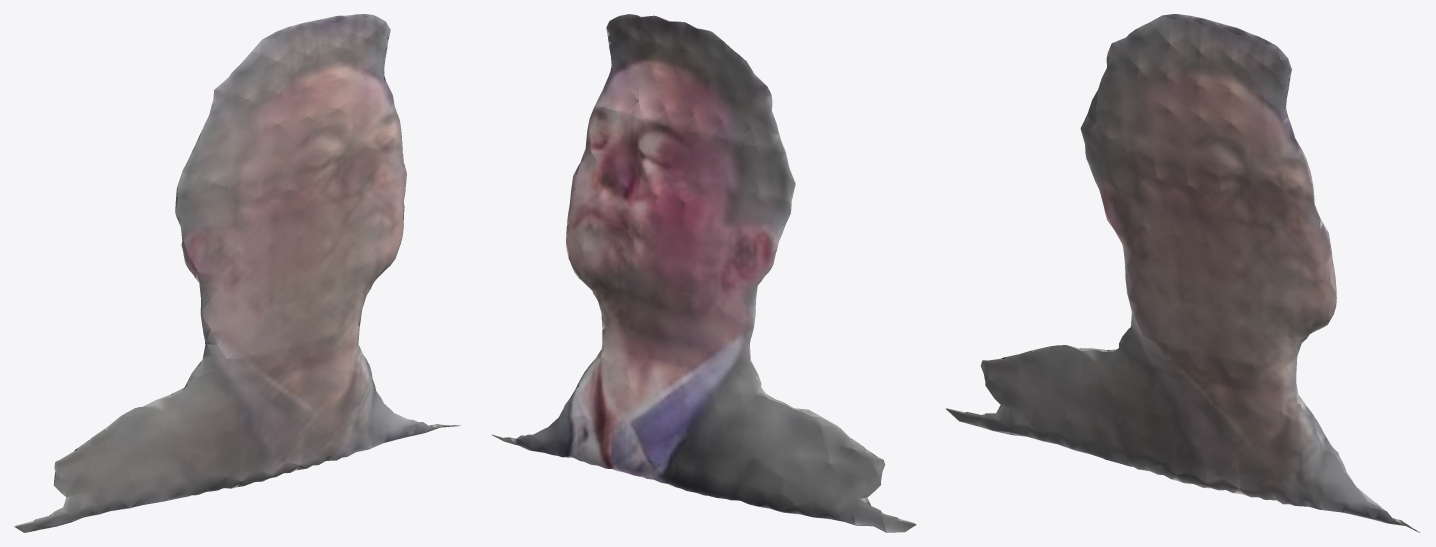
3 views of the same model, side by side, from view 1: azimuth 30°, elevation 25°; view 2: azimuth 150°, elevation 25°; view 3: azimuth 330°, elevation 25° (orthographic). The views are drawn at different scales.
Visible parts, largest first — view 1: world; view 2: world; view 3: world.
Boxes of the visible parts, box(x1,y1,x2,y2) form: world: box(14, 14, 460, 532); world: box(491, 14, 916, 532); world: box(946, 14, 1420, 532).
Size of the model in its own units: 0.6506 by 0.648 by 0.102.
1 material, 1 textured.
